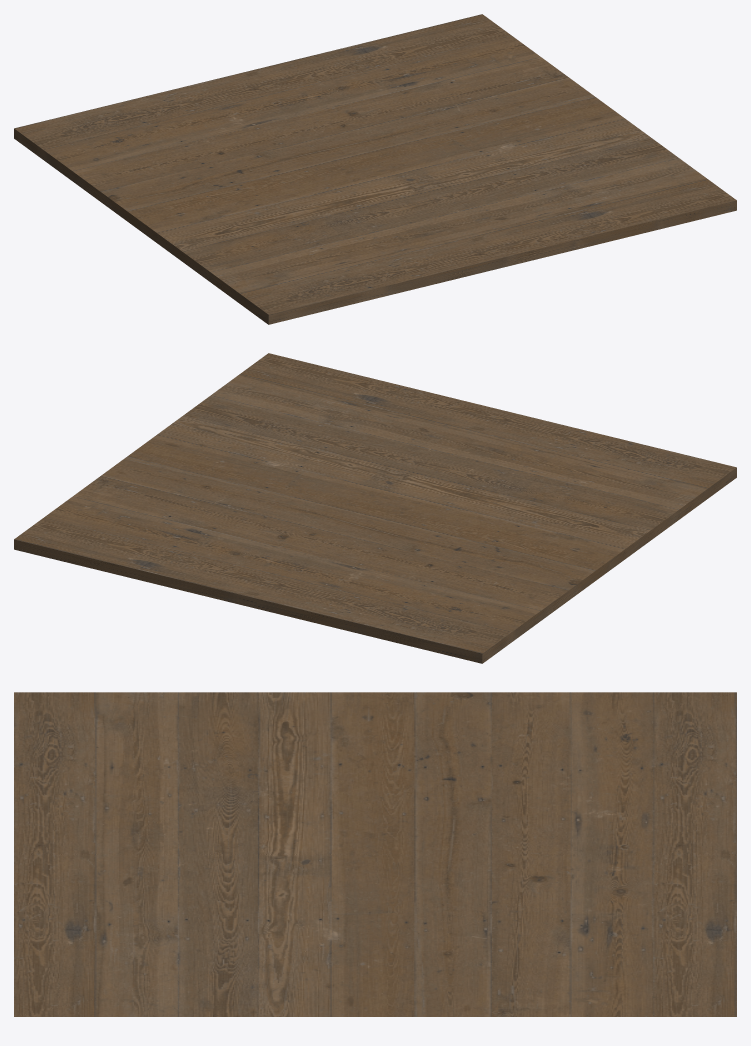
The model's file is SM_Floor03H.fbx.
3 renders of one model, top to bottom at view 1: azimuth 30°, elevation 25°; view 2: azimuth 150°, elevation 25°; view 3: azimuth 270°, elevation 25°, orthographic. The views are drawn at different scales.
Parts seen in each view (by area): view 1: SM_Floor03H; view 2: SM_Floor03H; view 3: SM_Floor03H.
Boxes of the visible parts, box(x1,y1,x2,y2) form: SM_Floor03H: box(14, 14, 736, 324); SM_Floor03H: box(14, 353, 736, 663); SM_Floor03H: box(14, 692, 736, 1016).
Size of the model in its own units: 262 by 246 by 5.43.
